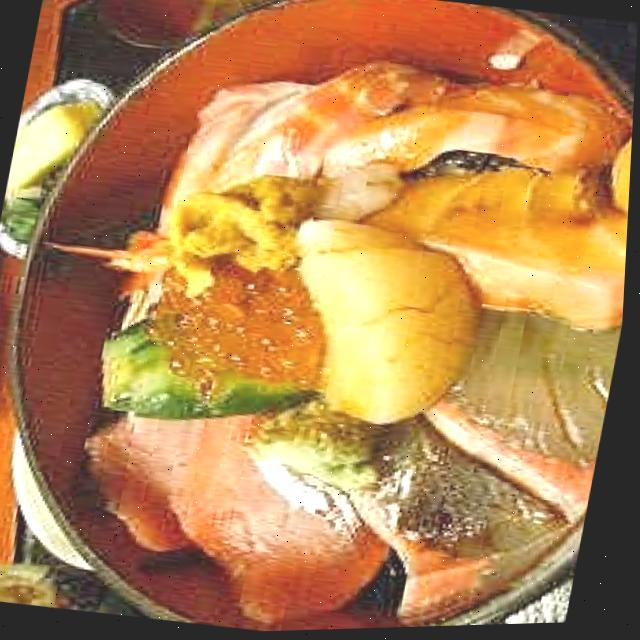刺身生食: (3, 0, 640, 639)
